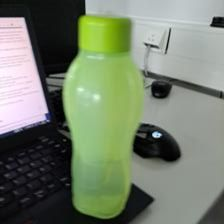bottle: (60, 14, 144, 219)
